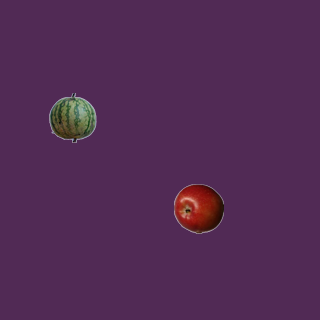Apple Braeburn: (173, 183, 223, 233)
Watermelon: (47, 92, 97, 142)
